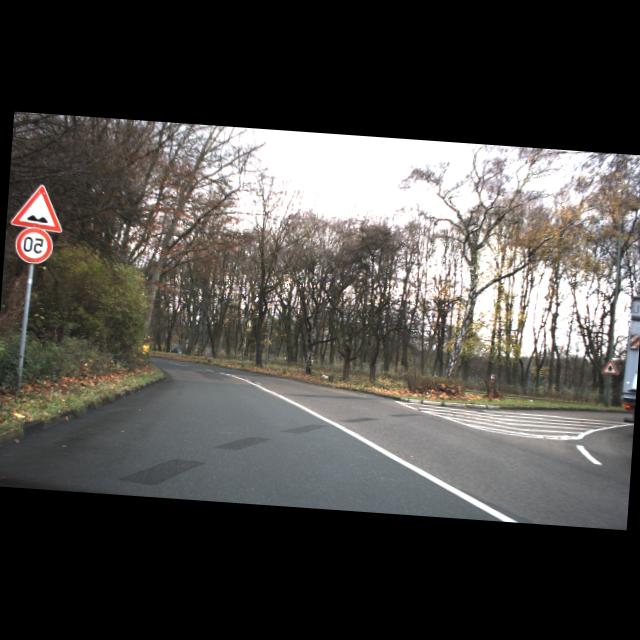danger: (11, 180, 66, 232), (601, 359, 620, 374)
prohibitory: (14, 225, 53, 263)
